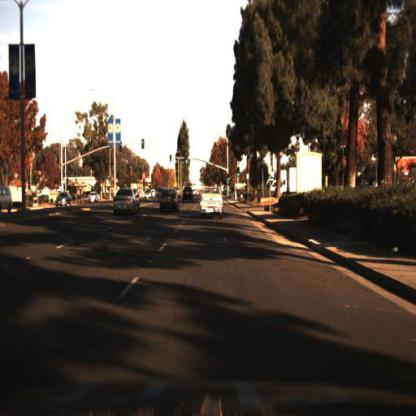car: (198, 183, 227, 220), (110, 186, 142, 219), (159, 185, 182, 215), (55, 189, 74, 208), (57, 193, 73, 209), (87, 190, 103, 204), (182, 188, 193, 202)
trafficLight-Green: (185, 152, 190, 170), (228, 171, 234, 185), (237, 170, 242, 185)
trafficLight-GreenLeft: (169, 150, 174, 171)
